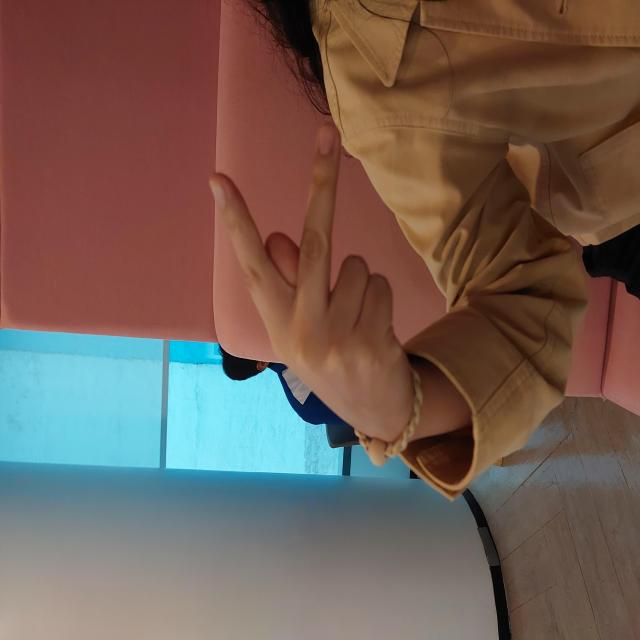K: (180, 204, 525, 414)
